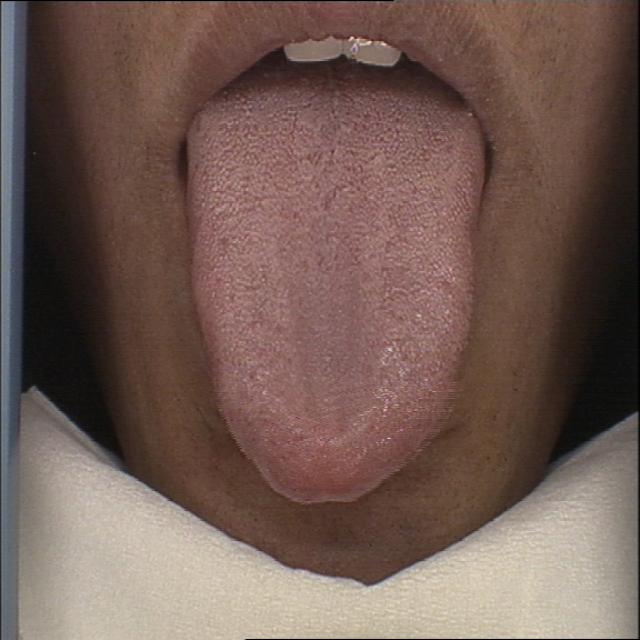tongue: (178, 89, 494, 515)
